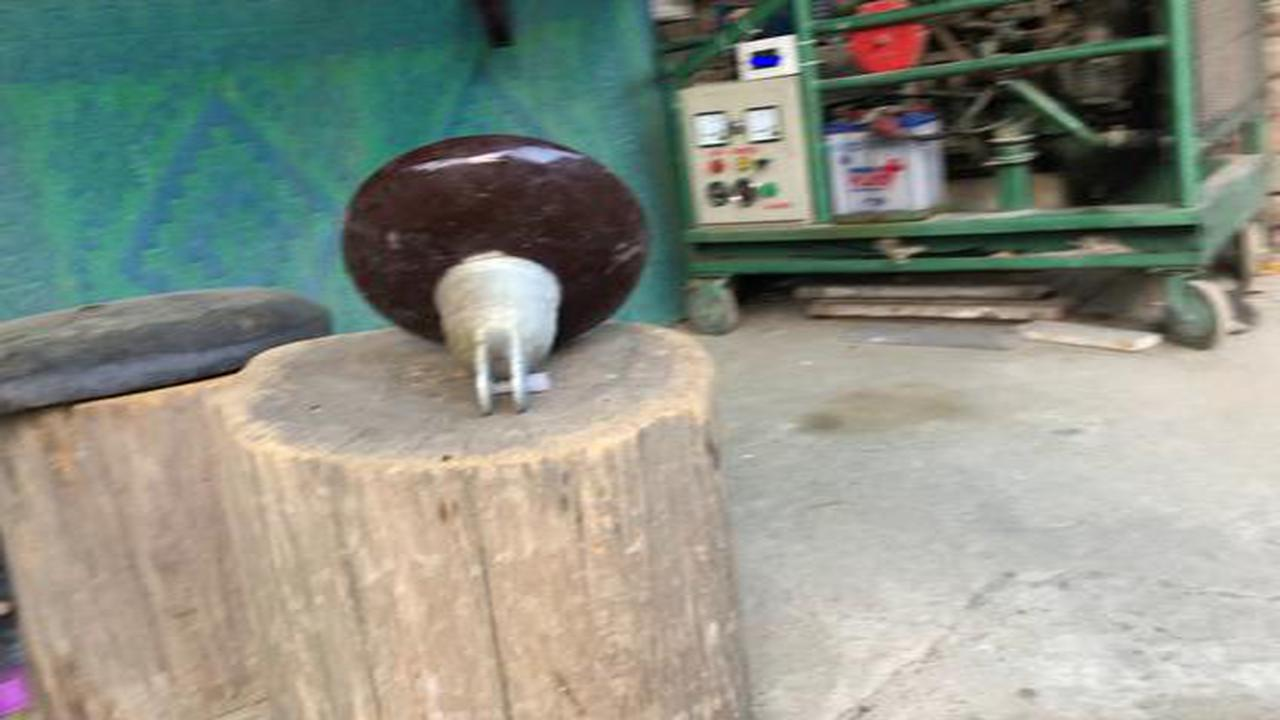insulator_disc: (334, 129, 653, 415)
